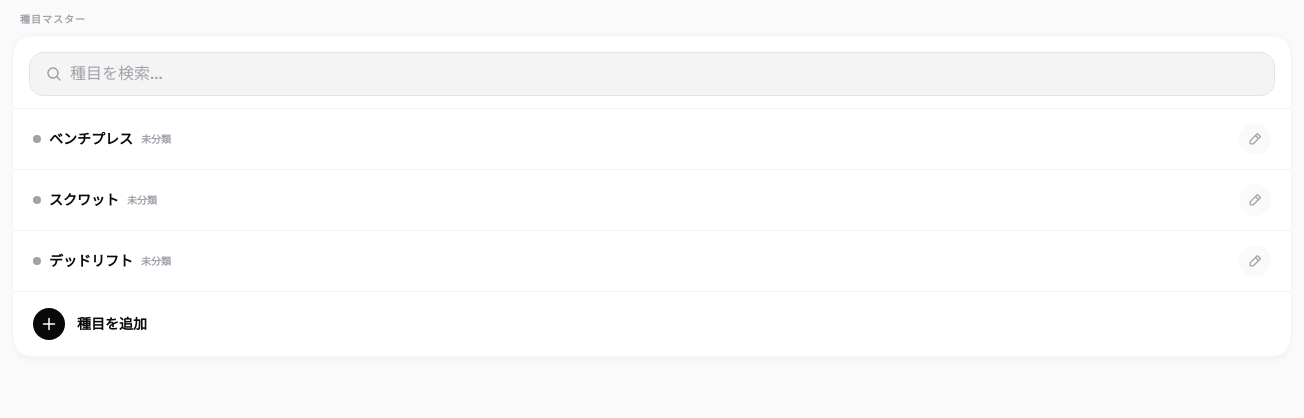
Test: ExerciseMasterSection › 追加ボタンで新しい種目を追加する
This screenshot has width=1304, height=418.
Step 1. Click the button "種目を追加" → coordinates (49, 324), box [13,292,1291,356]
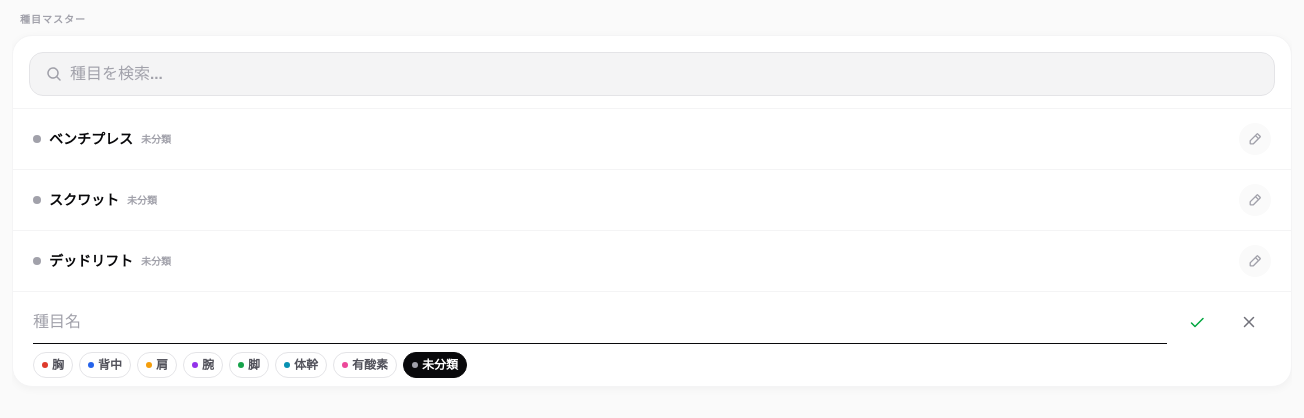
Step 2. Type "チンニング" into the field named "新しい種目名" → coordinates (600, 322), box [33,300,1167,344]
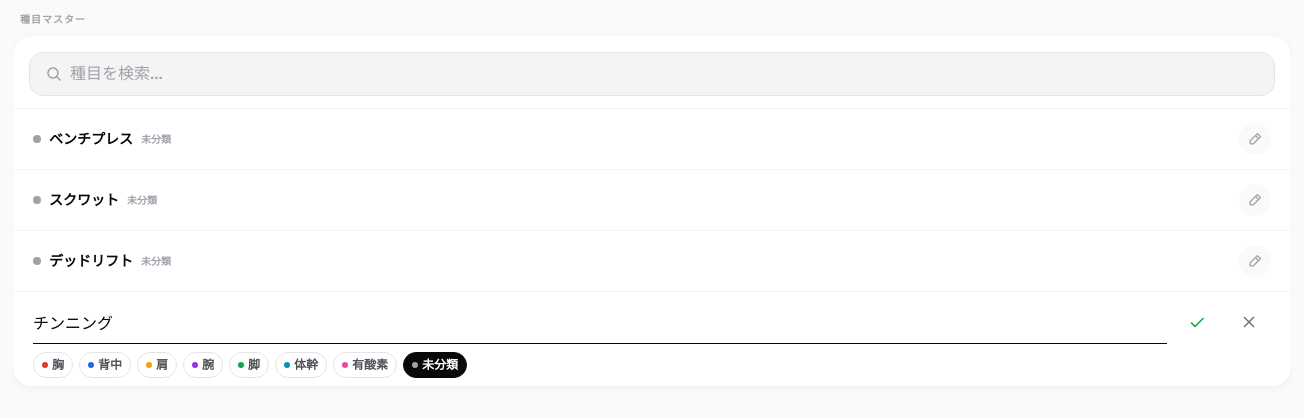
Step 3. Click the button named "追加を確定" → coordinates (1197, 322), box [1175,300,1219,344]
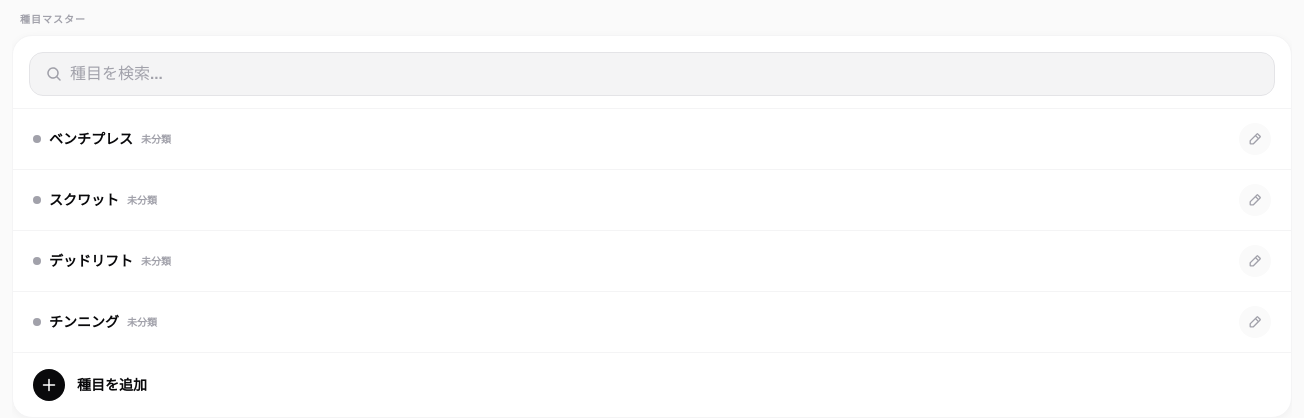
Expected: the text "チンニング" is shown, [49,312,119,332]
